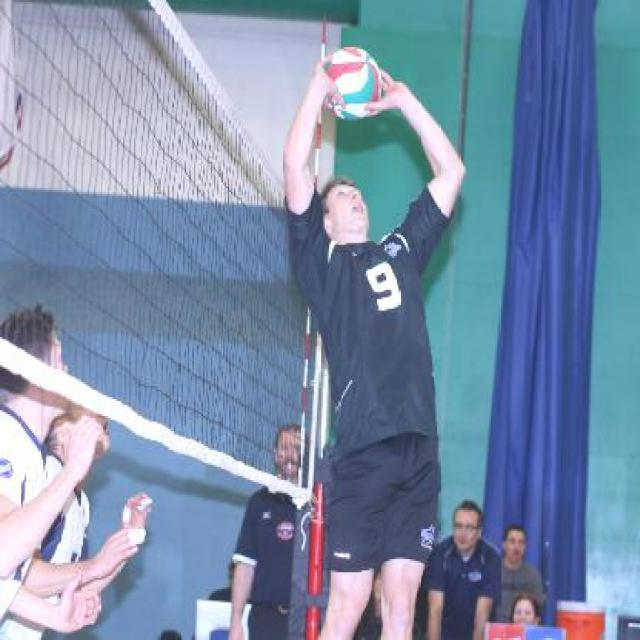volleyball: (324, 47, 382, 122)
